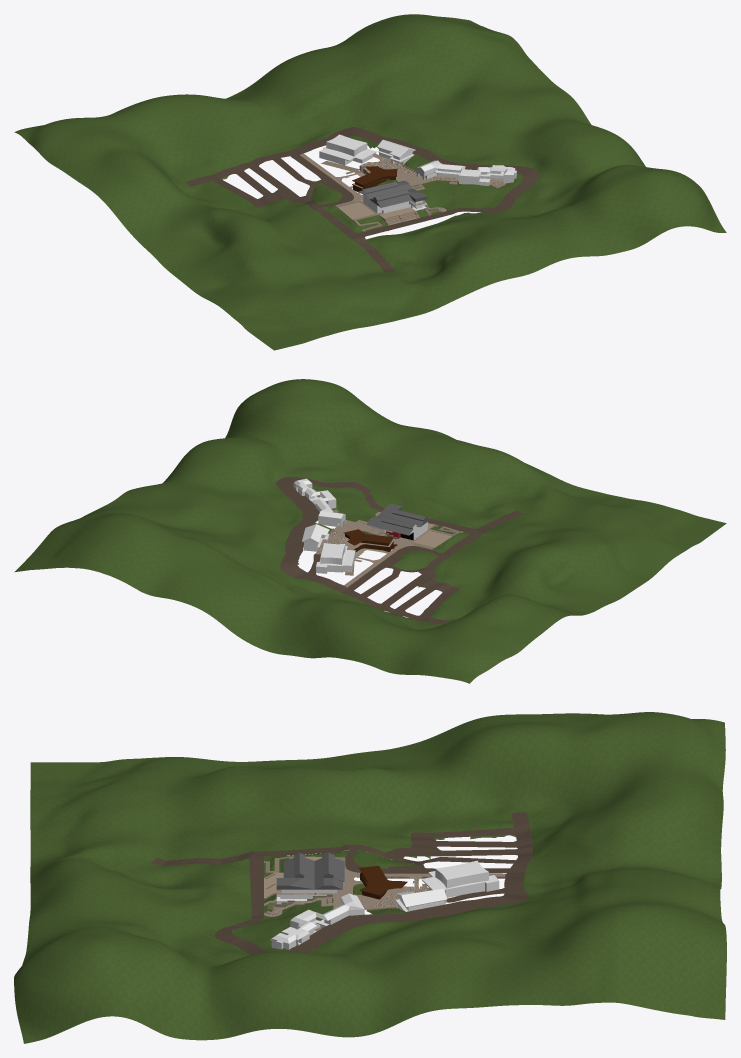
3 views of the same model, one above another, from view 1: azimuth 30°, elevation 25°; view 2: azimuth 150°, elevation 25°; view 3: azimuth 270°, elevation 25° (orthographic). The views are drawn at different scales.
Visible parts, largest first — view 1: outergrass-col, road-col, campusgrass-col, concrete floor-col.001, a building-col, bbuilding-col, ebuilding-col, gac-col, fitz-col; view 2: outergrass-col, road-col, campusgrass-col, concrete floor-col.001, a building-col, bbuilding-col, ebuilding-col, gac-col, fitz-col; view 3: outergrass-col, road-col, campusgrass-col, concrete floor-col.001, a building-col, bbuilding-col, ebuilding-col, gac-col, fitz-col.
Part boxes in pixels (bbox=[...]): outergrass-col: bbox=[14, 14, 726, 350]; road-col: bbox=[186, 127, 538, 272]; campusgrass-col: bbox=[311, 154, 522, 233]; concrete floor-col.001: bbox=[299, 153, 505, 231]; a building-col: bbox=[359, 181, 426, 213]; bbuilding-col: bbox=[416, 160, 516, 185]; ebuilding-col: bbox=[319, 134, 376, 165]; gac-col: bbox=[352, 166, 397, 192]; fitz-col: bbox=[377, 140, 415, 165]; outergrass-col: bbox=[14, 379, 726, 683]; road-col: bbox=[276, 477, 522, 624]; campusgrass-col: bbox=[293, 484, 470, 570]; concrete floor-col.001: bbox=[315, 490, 463, 587]; a building-col: bbox=[366, 503, 430, 549]; bbuilding-col: bbox=[293, 478, 345, 527]; ebuilding-col: bbox=[316, 543, 355, 573]; gac-col: bbox=[344, 529, 393, 552]; fitz-col: bbox=[302, 524, 329, 551]; outergrass-col: bbox=[14, 712, 726, 1043]; road-col: bbox=[150, 812, 533, 955]; campusgrass-col: bbox=[231, 850, 417, 951]; concrete floor-col.001: bbox=[264, 856, 505, 940]; a building-col: bbox=[276, 852, 344, 904]; bbuilding-col: bbox=[271, 893, 364, 949]; ebuilding-col: bbox=[421, 860, 499, 897]; gac-col: bbox=[359, 865, 407, 899]; fitz-col: bbox=[395, 888, 447, 911].
Bounding box in the file's own units: 61663 × 9026 × 61214.
